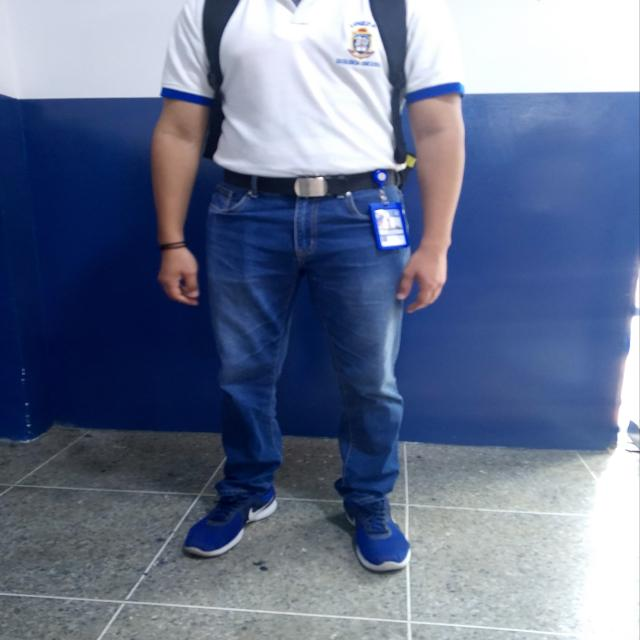carnet: (374, 208, 407, 248)
pantalon_oscuro: (201, 184, 412, 508)
uniforme_superior: (159, 0, 466, 180)
